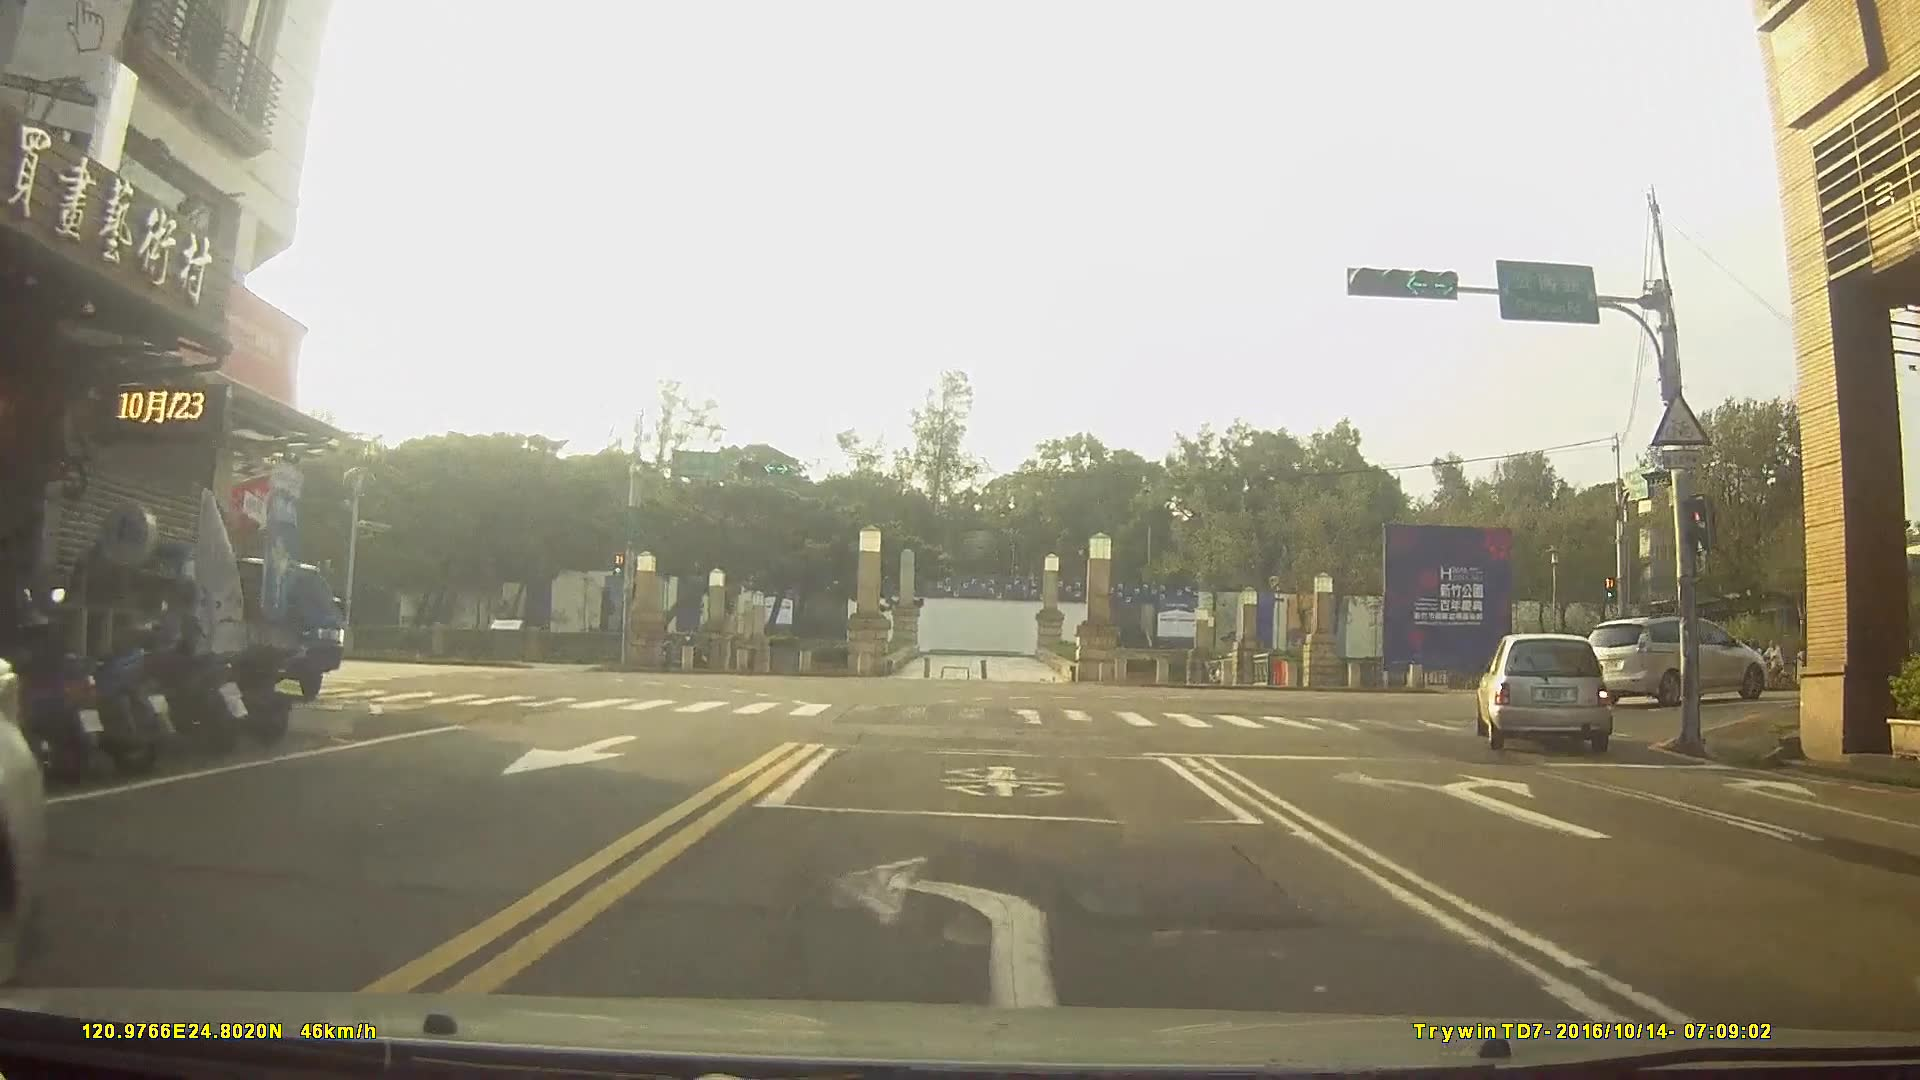vehicle: (214, 553, 343, 698), (1473, 629, 1615, 753), (1584, 612, 1766, 705)
